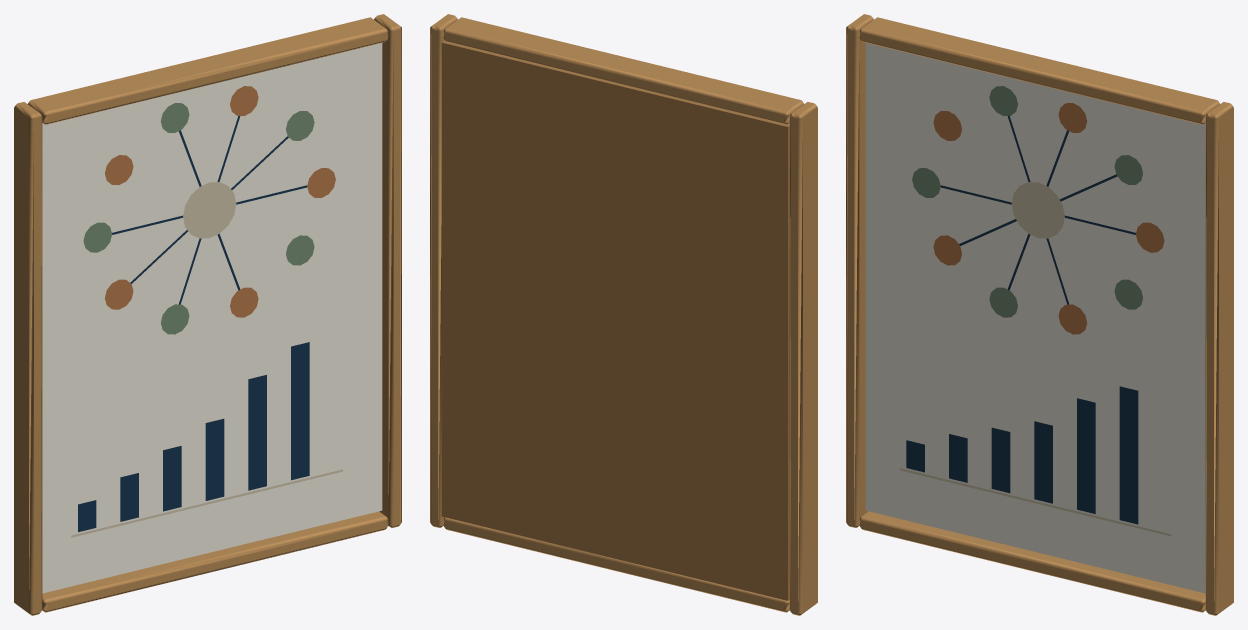
The model's file is research-poster.fbx.
3 views of the same model, side by side, from view 1: azimuth 30°, elevation 25°; view 2: azimuth 150°, elevation 25°; view 3: azimuth 330°, elevation 25° (orthographic).
Parts seen in each view (by area): view 1: research-poster; view 2: research-poster; view 3: research-poster.
Boxes of the visible parts, x1,y1,x2,y2 form: research-poster: (14,14,401,615); research-poster: (430,14,817,615); research-poster: (846,14,1233,615).
Size of the model in its own units: 70 by 90 by 6.
